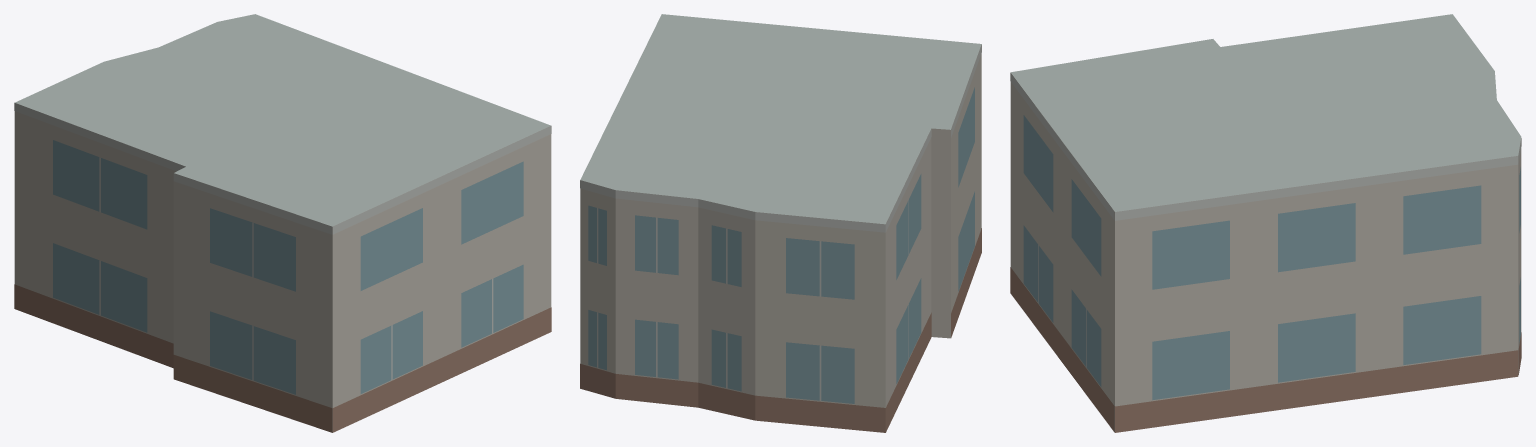
File: survey-upis-32811809.glb
3 views of the same model, side by side, from view 1: azimuth 30°, elevation 25°; view 2: azimuth 150°, elevation 25°; view 3: azimuth 270°, elevation 25° (orthographic). The views are drawn at different scales.
Visible parts, largest first — view 1: survey-upis-32811809.tmp; view 2: survey-upis-32811809.tmp; view 3: survey-upis-32811809.tmp.
Part boxes in pixels (bbox=[...]): survey-upis-32811809.tmp: bbox=[14, 14, 551, 432]; survey-upis-32811809.tmp: bbox=[580, 14, 981, 432]; survey-upis-32811809.tmp: bbox=[1010, 14, 1521, 432].
Bounding box in the file's own units: 11.74 × 6.1 × 12.81.
